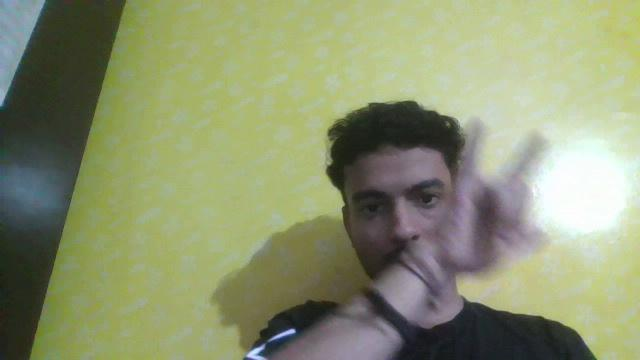Loveyou: (407, 105, 573, 278)
